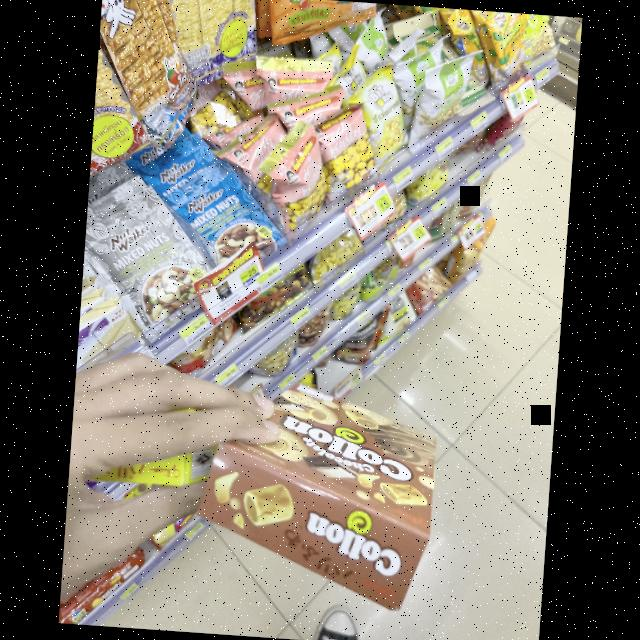cardboard_box: (184, 358, 465, 604)
